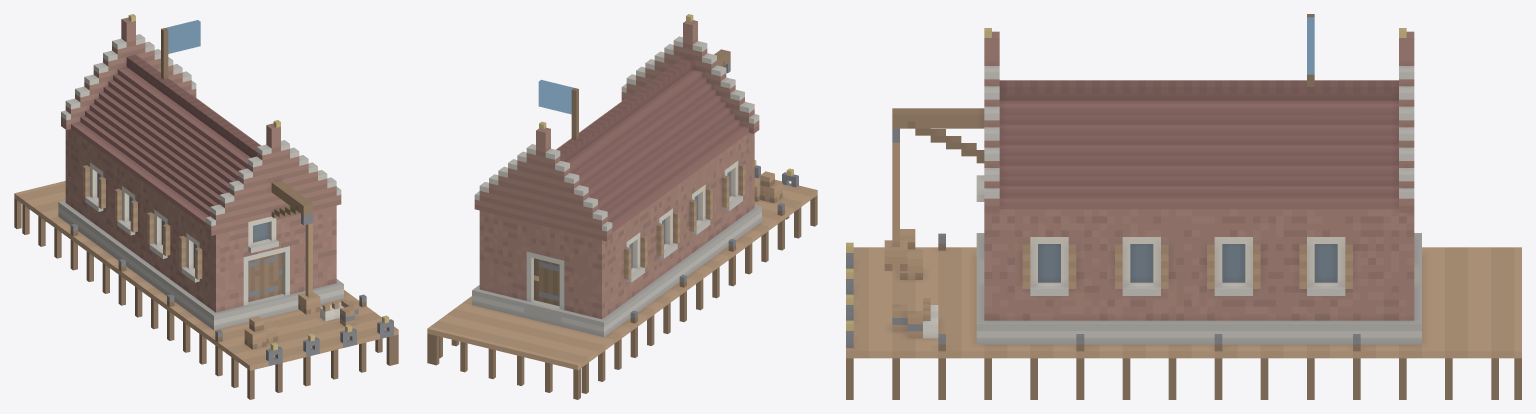
The model's file is kontor.glb.
The picture shows the model from 3 angles, left to right: view 1: azimuth 30°, elevation 25°; view 2: azimuth 150°, elevation 25°; view 3: azimuth 270°, elevation 25°; orthographic projection. The views are drawn at different scales.
Parts seen in each view (by area): view 1: kontor; view 2: kontor; view 3: kontor.
Boxes of the visible parts, x1,y1,x2,y2 form: kontor: (14, 14, 398, 399); kontor: (427, 14, 817, 399); kontor: (846, 14, 1521, 399).
Bounding box in the file's own units: 4 × 6 × 11.
